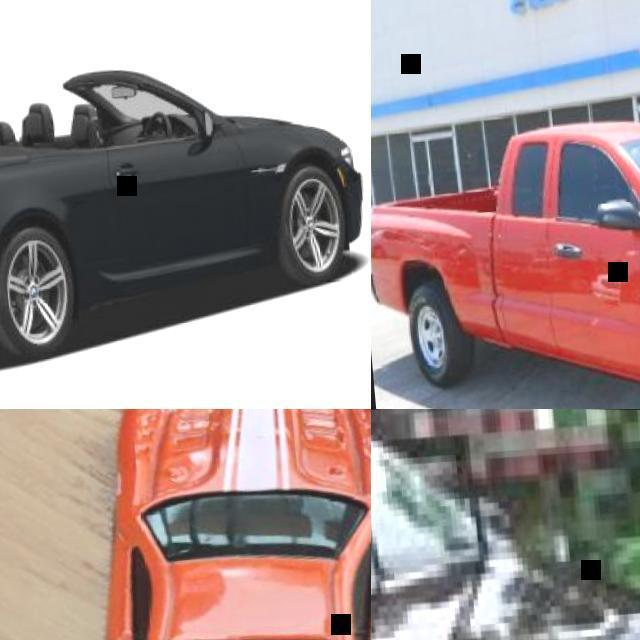car: (0, 0, 362, 367), (102, 476, 372, 638)
